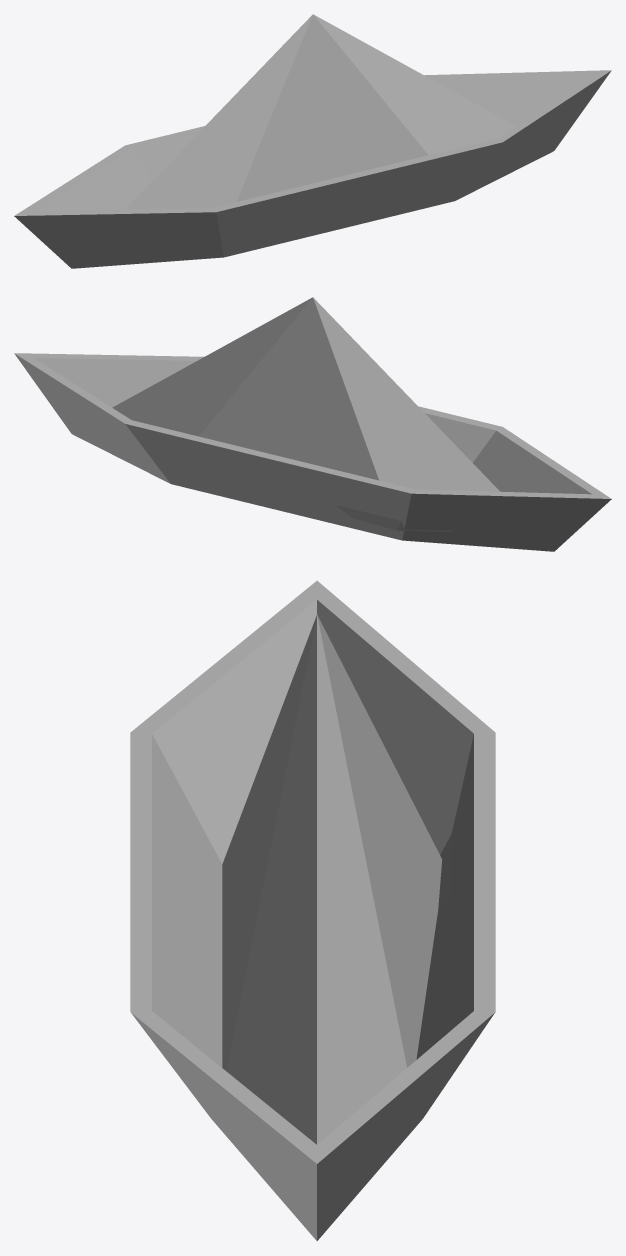
The model's file is Paper Boat.fbx.
The picture shows the model from 3 angles, top to bottom: view 1: azimuth 30°, elevation 25°; view 2: azimuth 150°, elevation 25°; view 3: azimuth 270°, elevation 25°; orthographic projection. The views are drawn at different scales.
Visible parts, largest first — view 1: Paper Boat; view 2: Paper Boat; view 3: Paper Boat.
Boxes of the visible parts, x1,y1,x2,y2 form: Paper Boat: [14, 14, 611, 268]; Paper Boat: [14, 297, 611, 551]; Paper Boat: [130, 580, 495, 1240].
Size of the model in its own units: 21.62 by 6.77 by 5.72.
